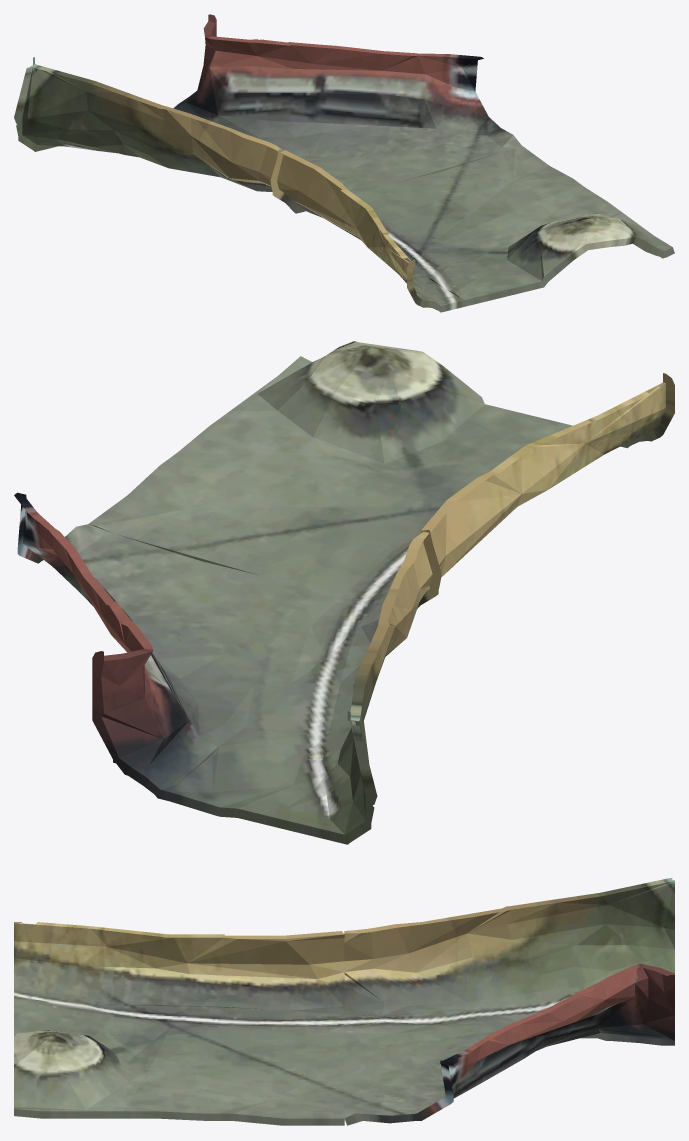
The model's file is BuildingMesh-00054.gltf.
The picture shows the model from 3 angles, top to bottom: view 1: azimuth 30°, elevation 25°; view 2: azimuth 150°, elevation 25°; view 3: azimuth 270°, elevation 25°; orthographic projection. The views are drawn at different scales.
Parts seen in each view (by area): view 1: BuildingMesh-00054; view 2: BuildingMesh-00054; view 3: BuildingMesh-00054.
Boxes of the visible parts, bbox=[...] form: BuildingMesh-00054: bbox=[14, 14, 674, 312]; BuildingMesh-00054: bbox=[14, 341, 674, 844]; BuildingMesh-00054: bbox=[14, 878, 674, 1125].
Size of the model in its own units: 0.6745 by 0.1726 by 0.9725.
Materials: 1 (1 with a texture image).
